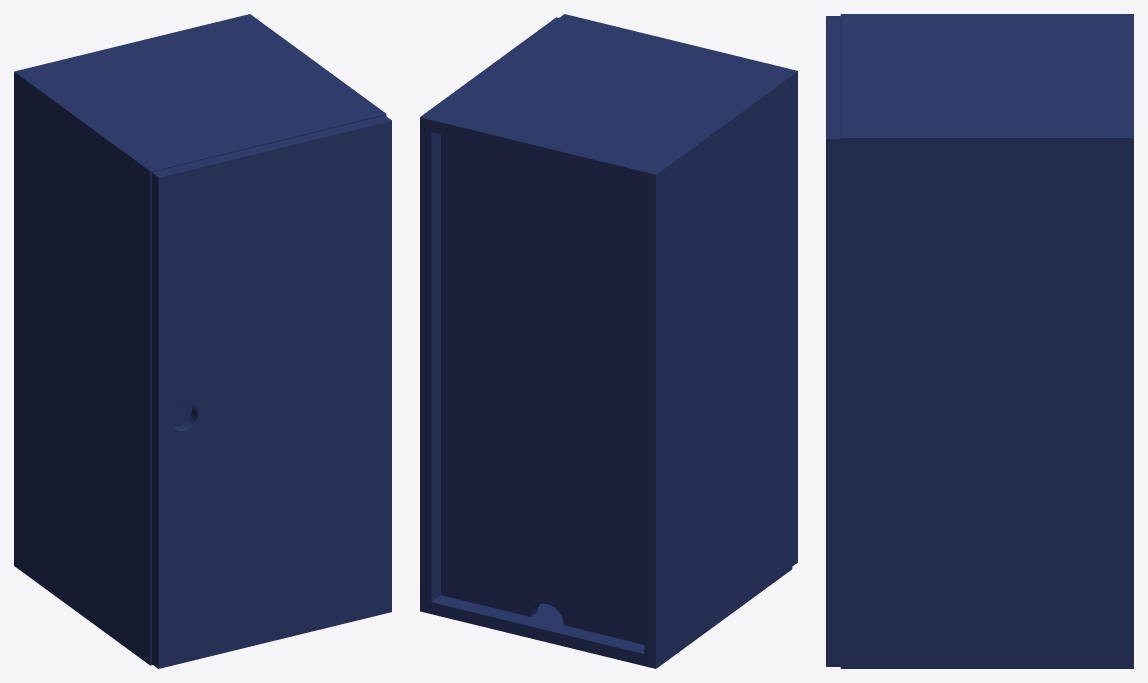
Rendered from MOD_1X2_D_B_IZQ_AP_AF.glb.
3 renders of one model, left to right at view 1: azimuth 30°, elevation 25°; view 2: azimuth 150°, elevation 25°; view 3: azimuth 270°, elevation 25°, orthographic. The views are drawn at different scales.
Bounding box in the file's own units: 360 × 720 × 378.
